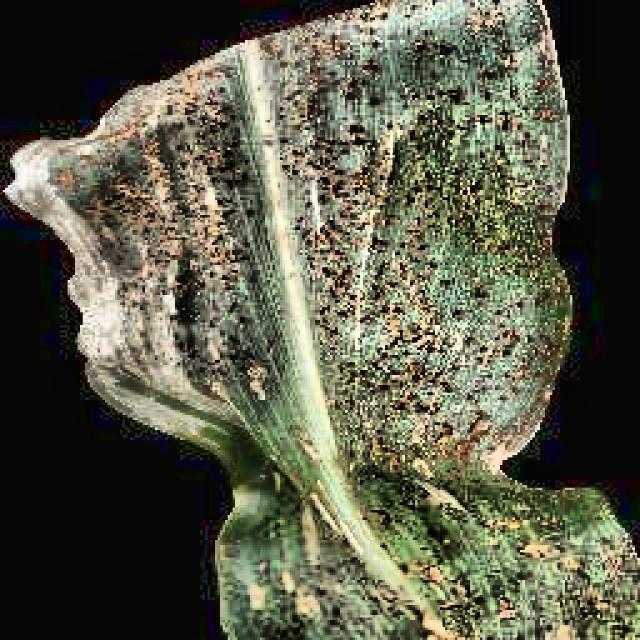common_rust: (31, 23, 640, 635)
